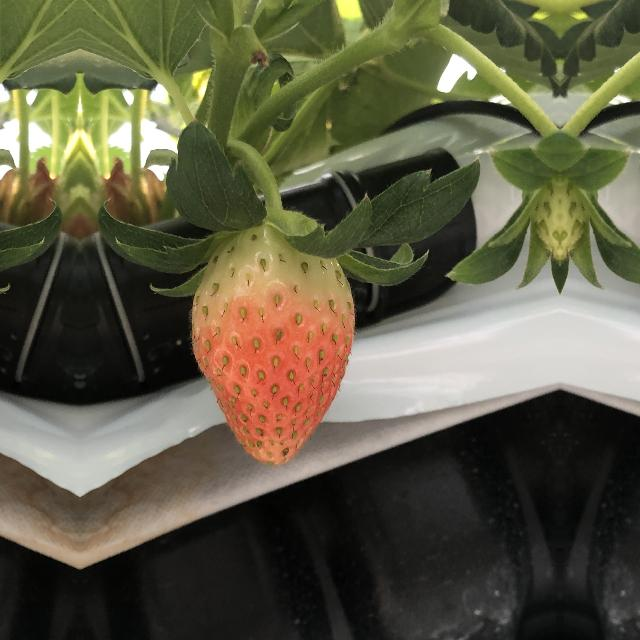Health_75: (187, 218, 357, 467)
